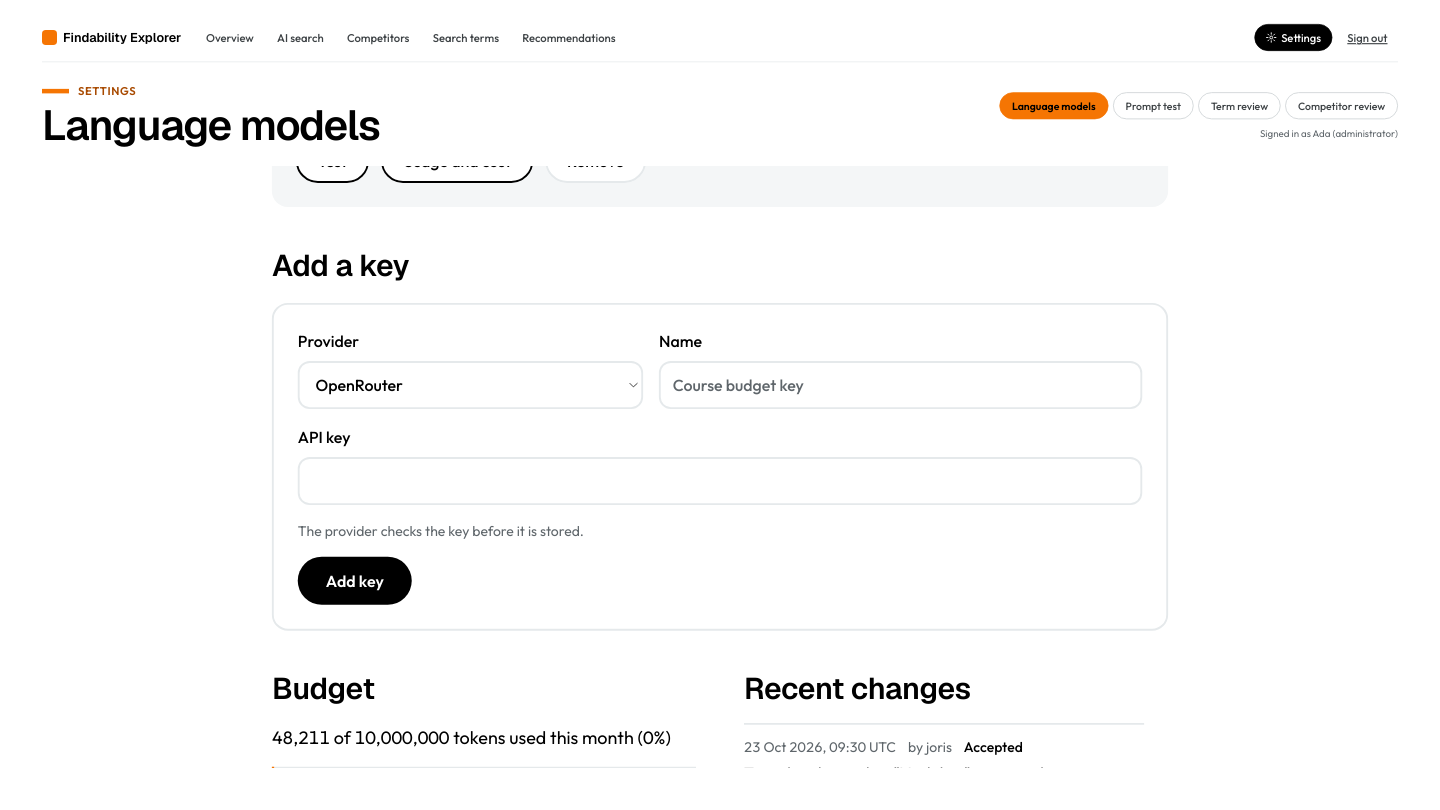
it: adding a key › checks the name and key before sending them
(page scrolled)
Submit the form that starts with "Provider", box top-left (272, 303), bottom-right (1168, 631)
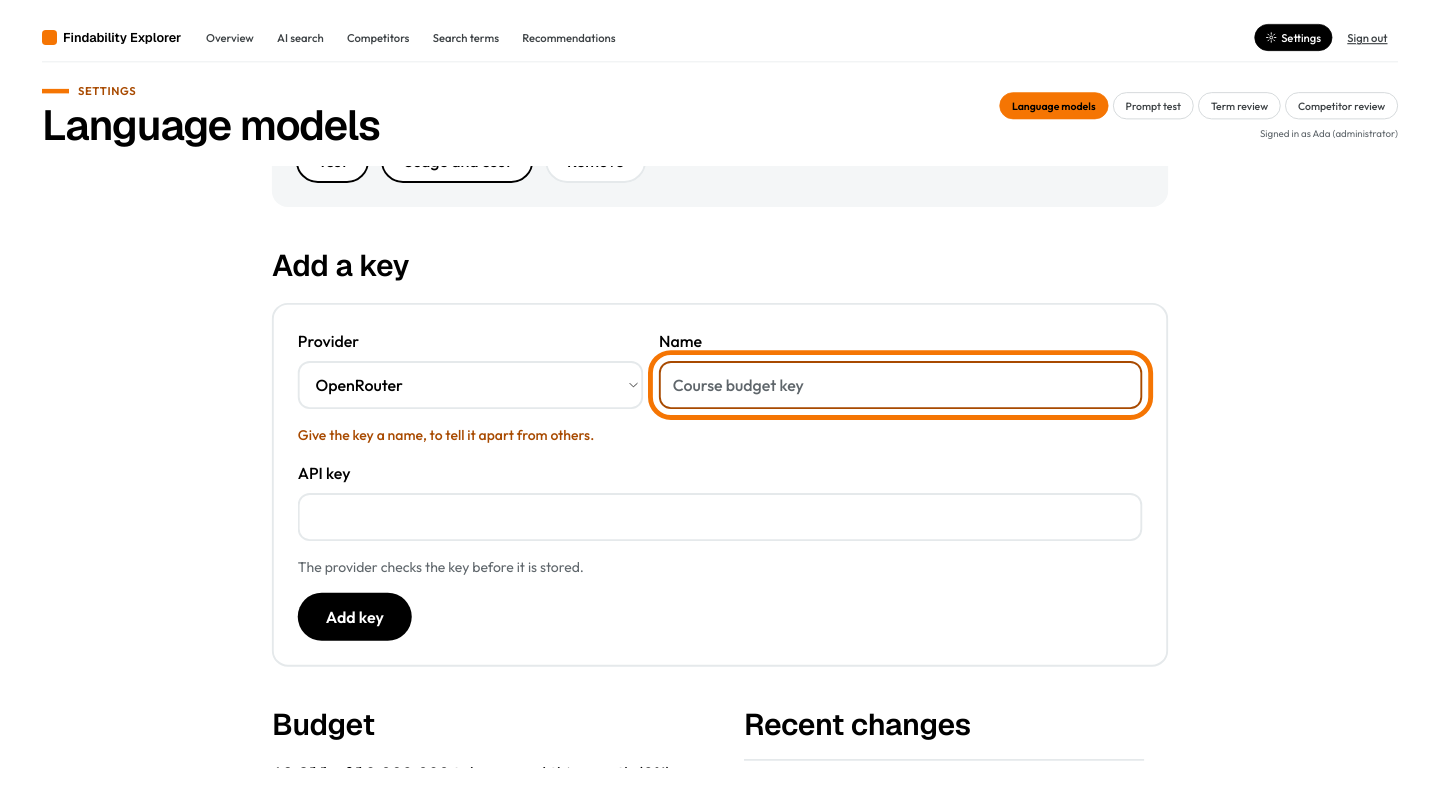
Result: the message "Give the key a name, to tell it apart from others." is shown at top-left (298, 426), bottom-right (594, 444)
In the field labelled "Name": (901, 385) top-left (659, 361), bottom-right (1142, 409), type "Mistral key"
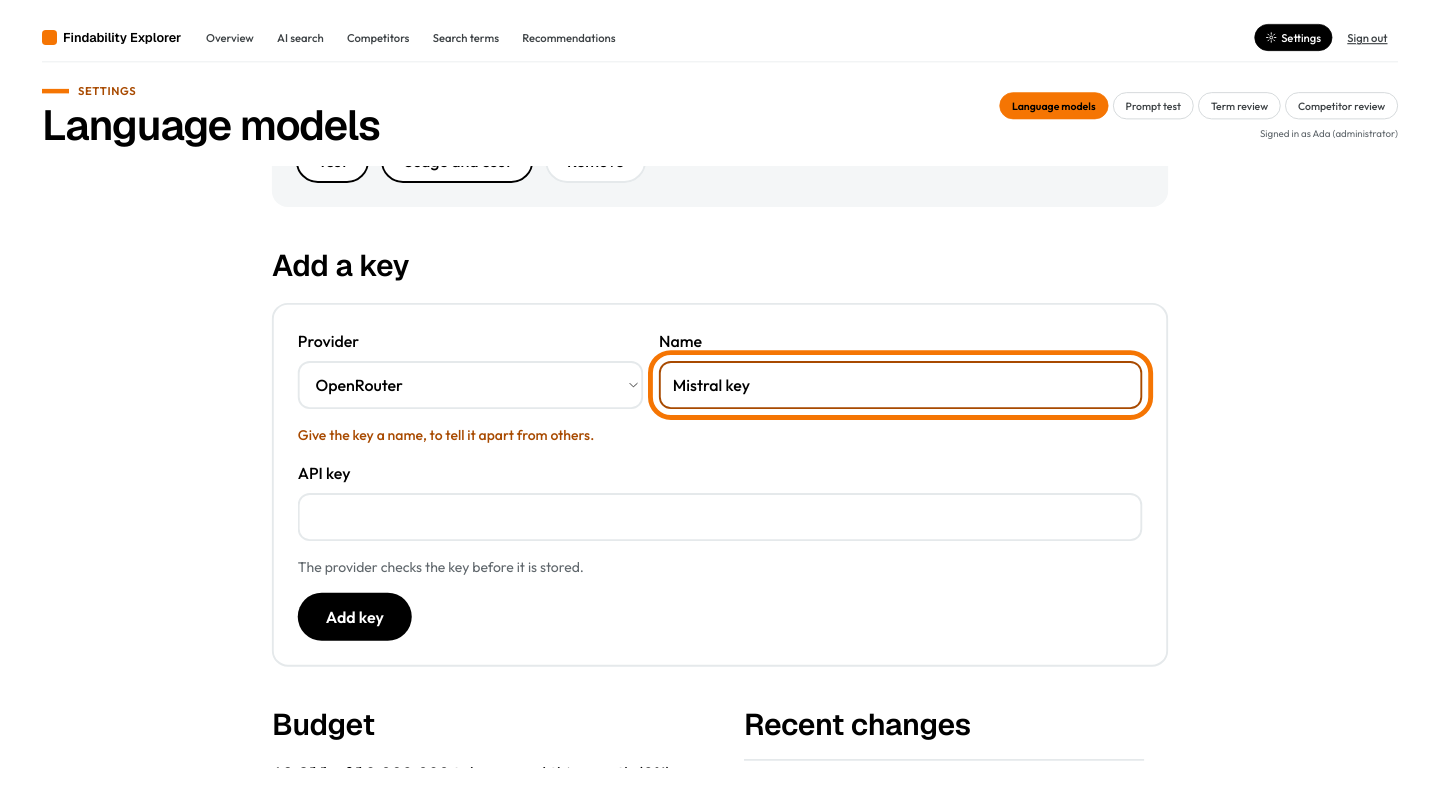
In the password field labelled "API key": (720, 517) top-left (298, 493), bottom-right (1142, 541), type "short"
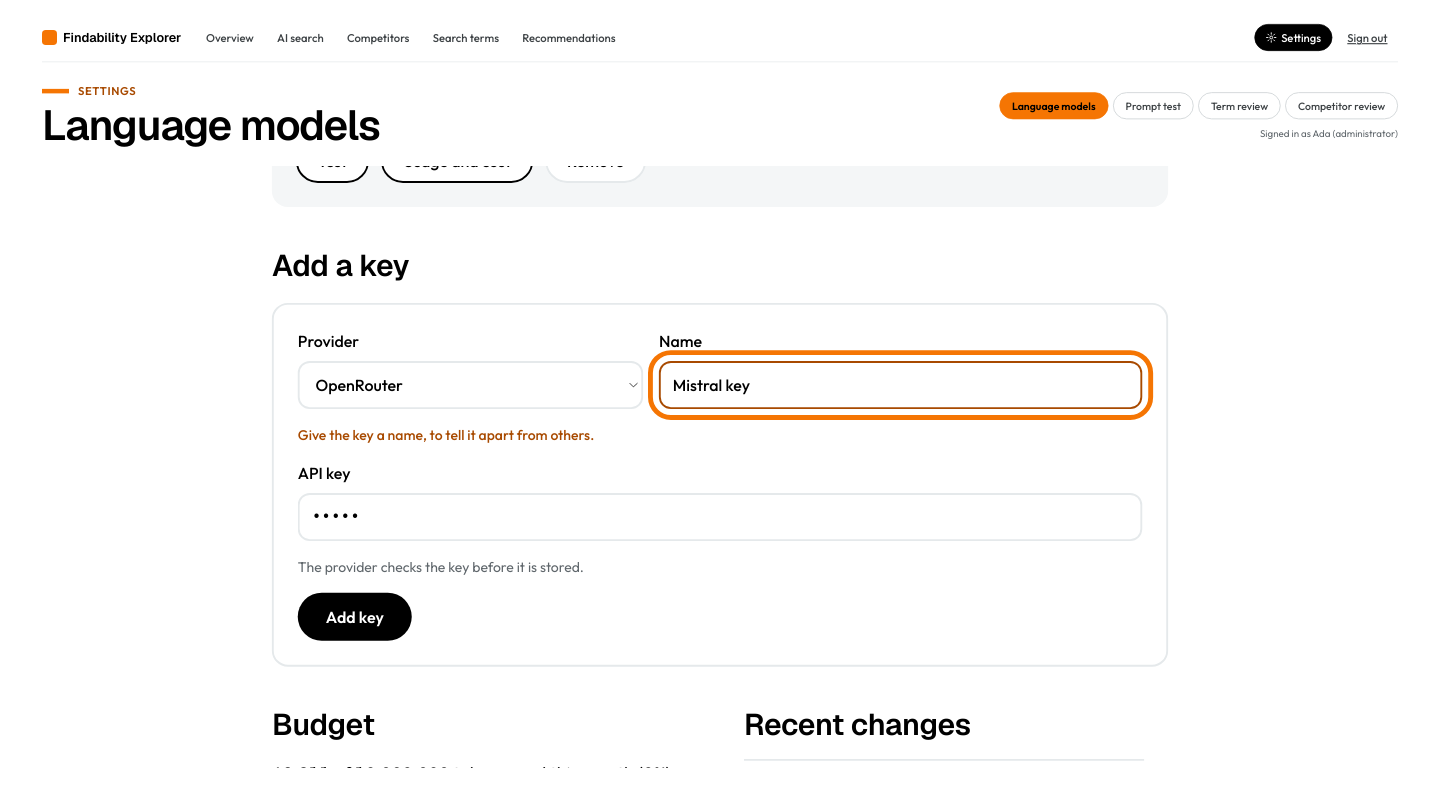
Submit the form that starts with "Provider", box top-left (272, 303), bottom-right (1168, 667)
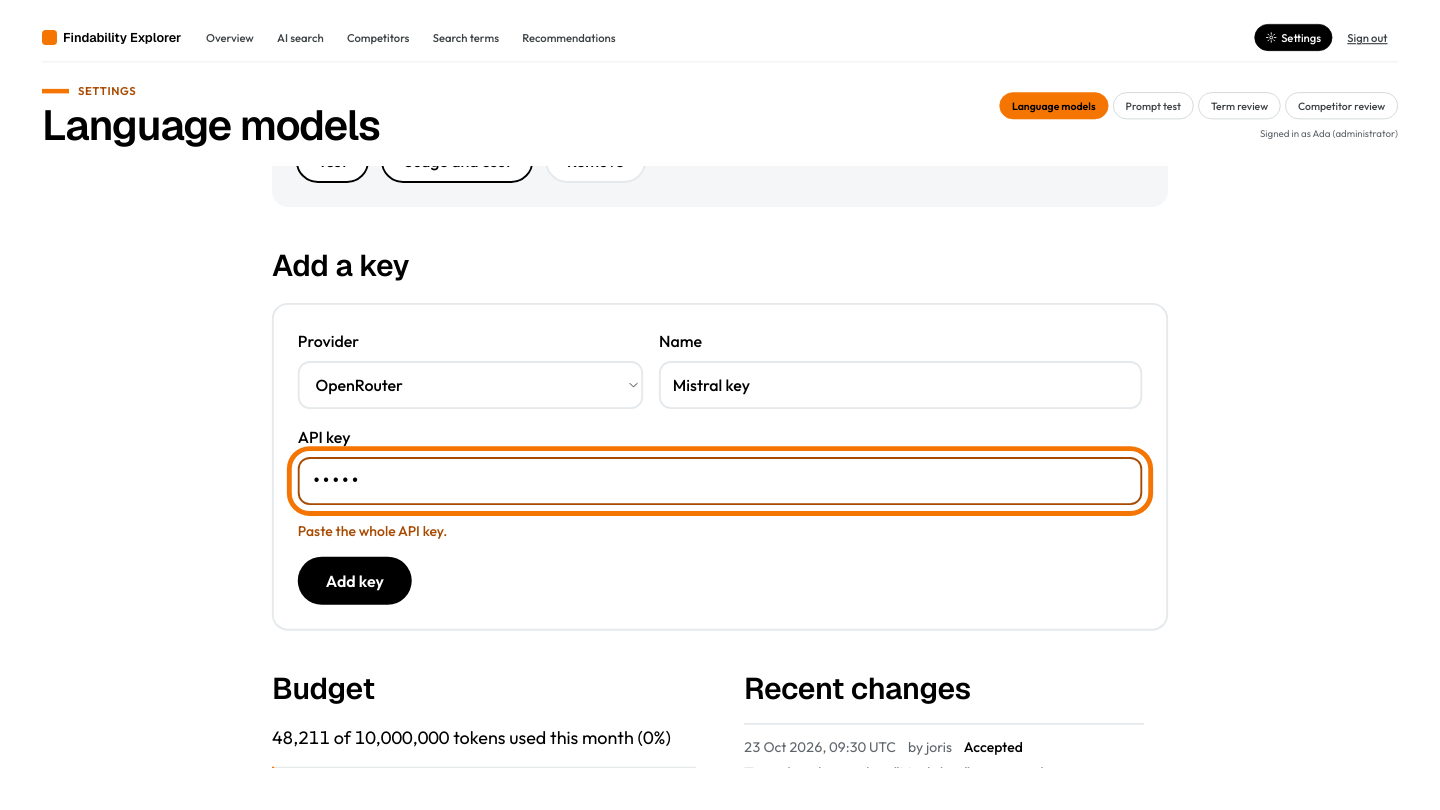
Result: the message "Paste the whole API key." is shown at top-left (298, 522), bottom-right (447, 540)
